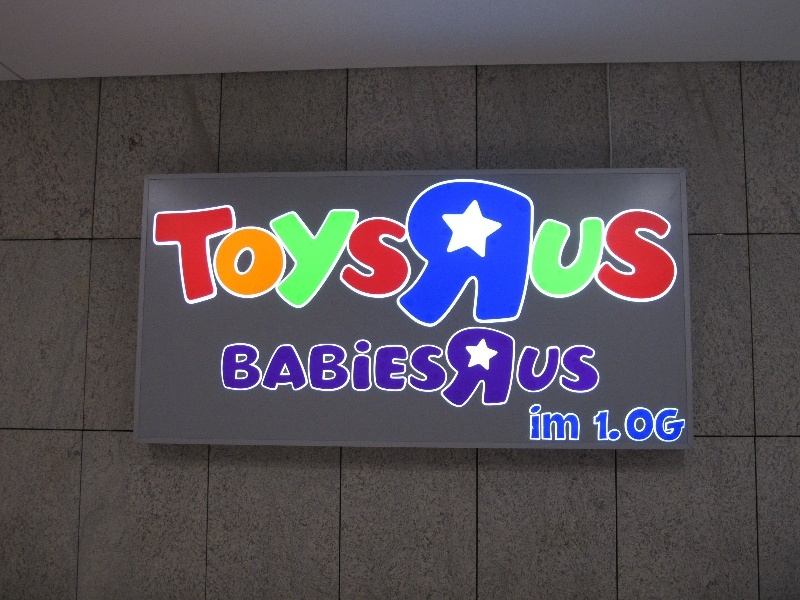text: (161, 180, 176, 329), (177, 180, 192, 329), (193, 180, 208, 329), (209, 180, 224, 329), (225, 180, 240, 329), (241, 180, 256, 329), (257, 180, 272, 329), (273, 180, 288, 329), (289, 180, 304, 329), (305, 180, 320, 329), (321, 180, 336, 329), (337, 180, 352, 329), (353, 180, 368, 329), (369, 180, 384, 329), (385, 180, 400, 329), (401, 180, 416, 329), (417, 180, 432, 329), (433, 180, 448, 329), (449, 180, 464, 329), (465, 180, 480, 329), (481, 180, 496, 329), (497, 180, 512, 329), (513, 180, 528, 329), (529, 180, 544, 329), (545, 180, 560, 329), (561, 180, 576, 329), (577, 180, 592, 329), (593, 180, 608, 329), (609, 180, 624, 329), (625, 180, 640, 329), (641, 180, 656, 329), (657, 180, 672, 329), (225, 322, 240, 410), (241, 322, 256, 410), (257, 322, 272, 410), (273, 322, 288, 410), (289, 322, 304, 410), (305, 322, 320, 410), (321, 322, 336, 410), (337, 322, 352, 410), (353, 322, 368, 410), (369, 322, 384, 410), (385, 322, 400, 410), (401, 322, 416, 410), (417, 322, 432, 410), (433, 322, 448, 410), (449, 322, 464, 410), (465, 322, 480, 410), (481, 322, 496, 410), (497, 322, 512, 410), (513, 322, 528, 410), (529, 322, 544, 410), (545, 322, 560, 410), (561, 322, 576, 410), (577, 322, 592, 410), (154, 180, 160, 329), (673, 180, 679, 329), (593, 322, 601, 410), (593, 404, 608, 447), (609, 404, 624, 447), (625, 404, 640, 447), (641, 404, 656, 447), (657, 404, 672, 447), (673, 404, 688, 447), (217, 322, 224, 410), (529, 404, 544, 445), (545, 404, 560, 445), (561, 404, 576, 445), (577, 404, 583, 445), (525, 404, 528, 445), (590, 404, 592, 447), (689, 404, 690, 447)
